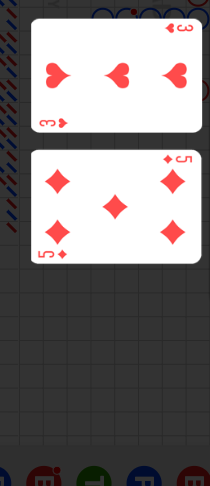3H: (38, 116, 69, 129)
5D: (36, 248, 69, 260)
